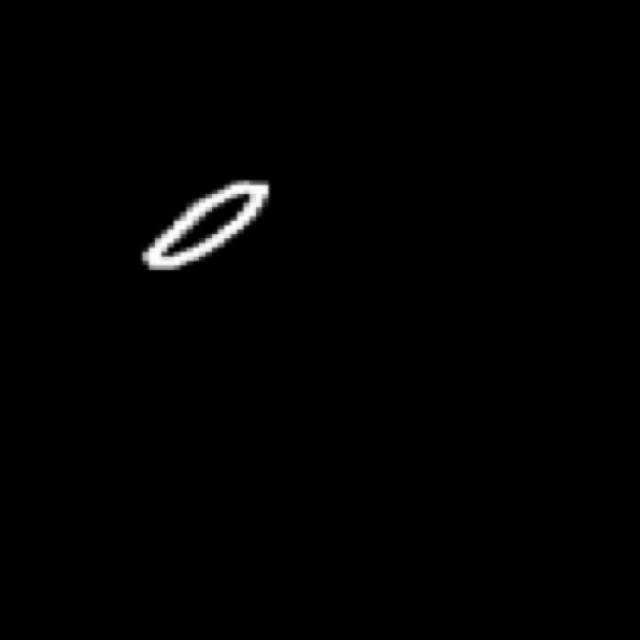zero -0-: (116, 165, 292, 288)
